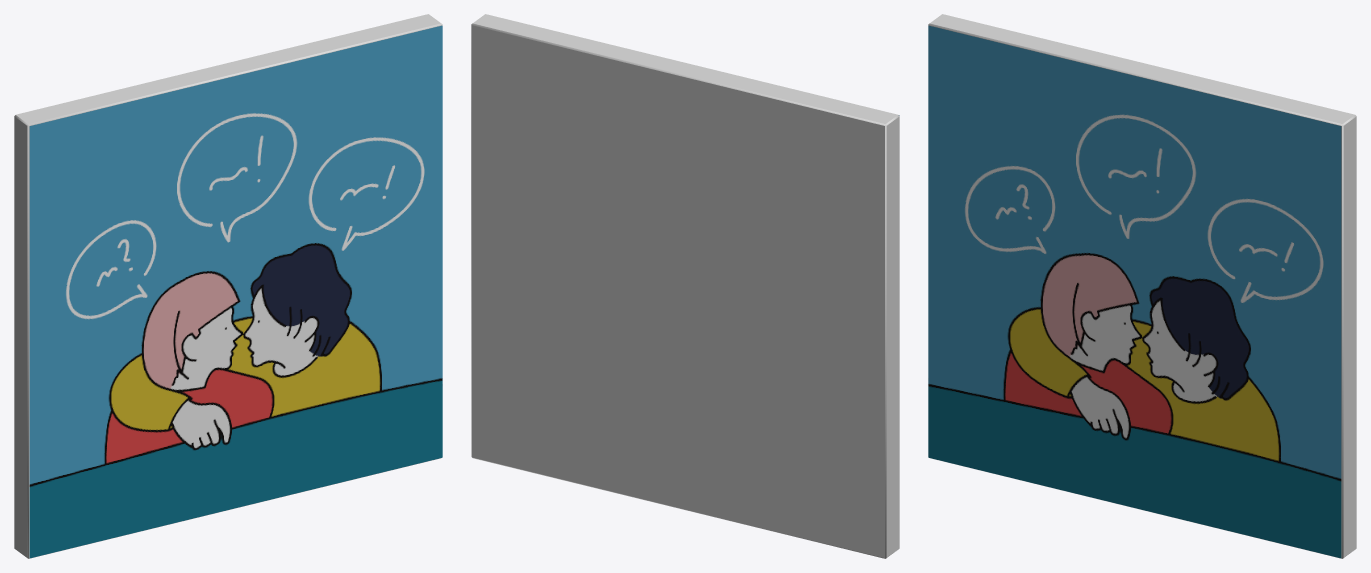
Rendered from room06.glb.
The picture shows the model from 3 angles, left to right: view 1: azimuth 30°, elevation 25°; view 2: azimuth 150°, elevation 25°; view 3: azimuth 330°, elevation 25°; orthographic projection.
Visible parts, largest first — view 1: tex, board; view 2: board; view 3: tex, board.
Boxes of the visible parts, left/top/right/bottom form: tex: left=29, top=25, right=442, bottom=558; board: left=14, top=14, right=442, bottom=558; board: left=471, top=14, right=899, bottom=558; tex: left=928, top=25, right=1341, bottom=558; board: left=928, top=14, right=1356, bottom=558.
Size of the model in its own units: 0.335 by 0.335 by 0.0205.
Materials: 2 (1 with a texture image).
